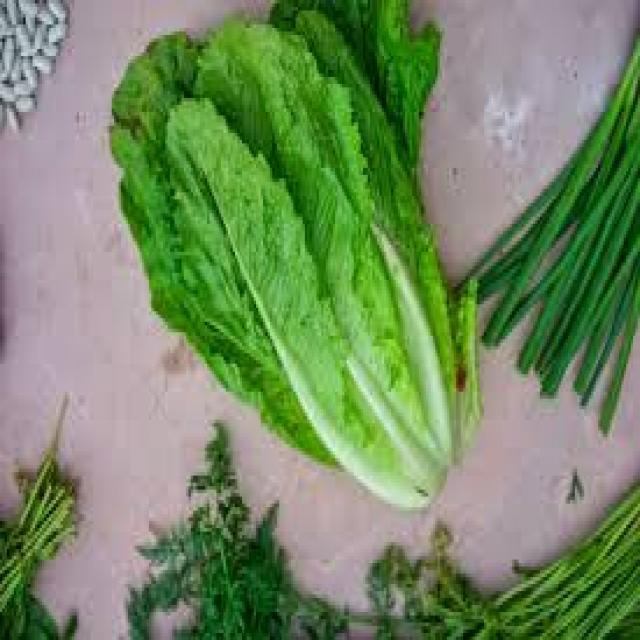Lettuce: (109, 0, 484, 514)
